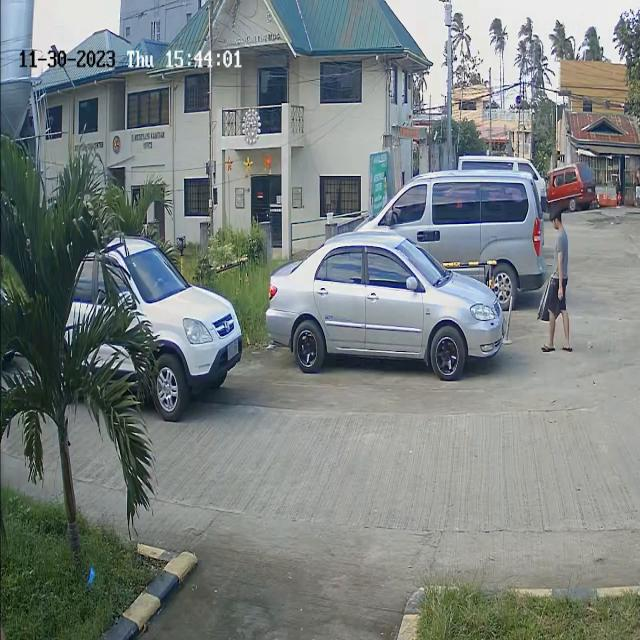person: (534, 211, 578, 357)
